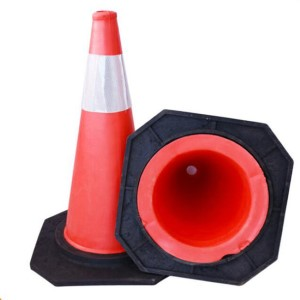traffic cone: (30, 10, 182, 287)
